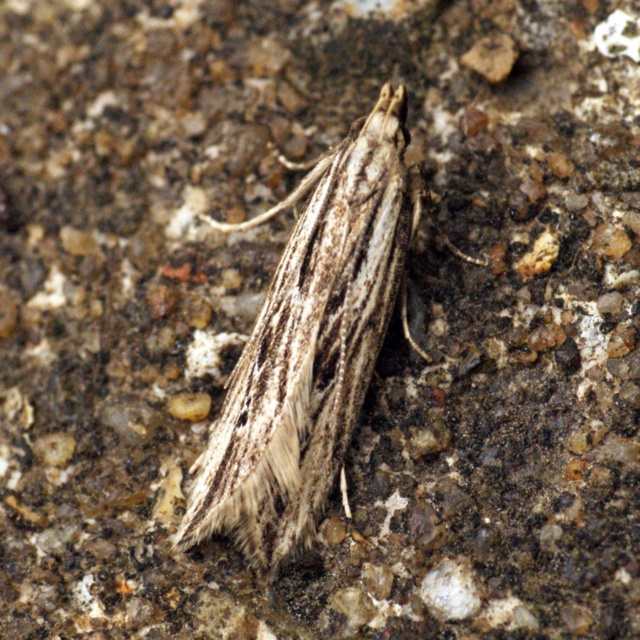Moths and butterflies: (161, 77, 494, 588)
